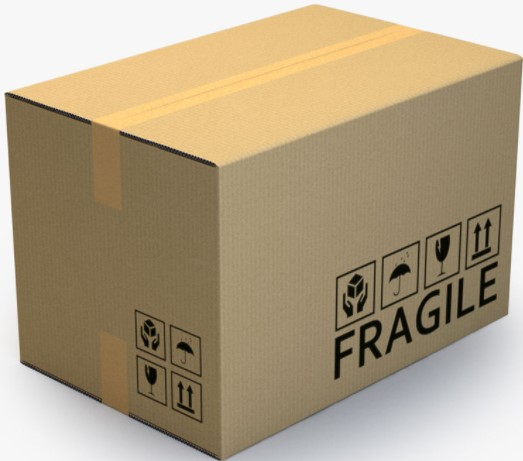stock: (7, 7, 523, 459)
